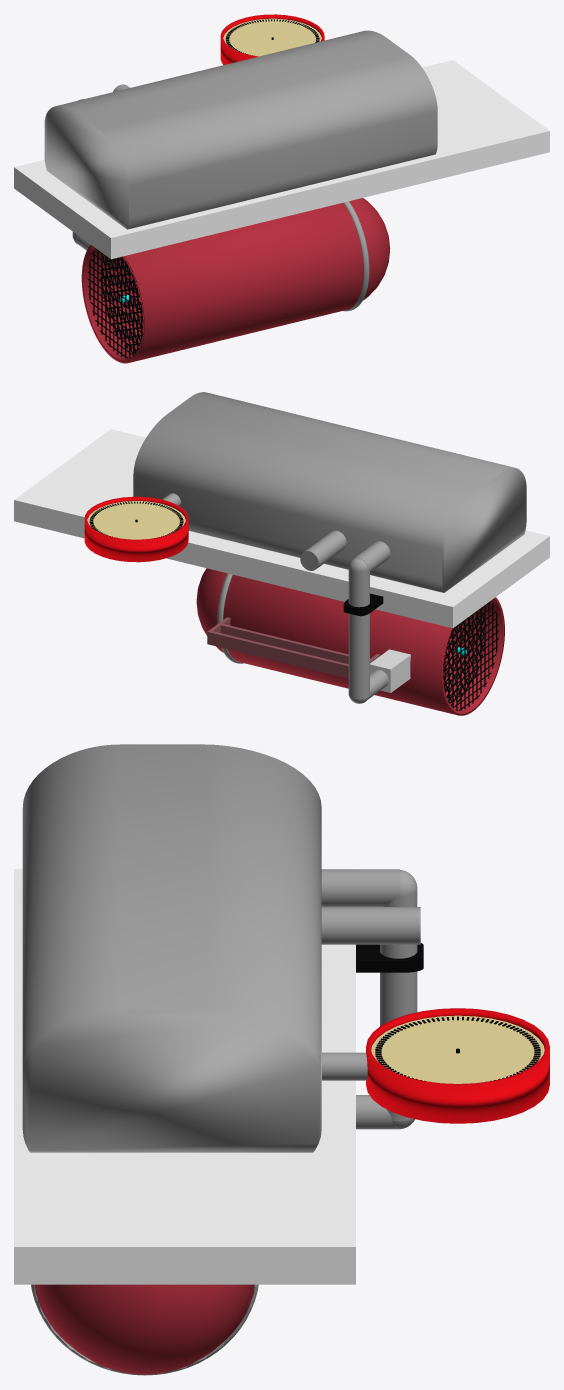
Rendered from Stand.gltf.
3 renders of one model, top to bottom at view 1: azimuth 30°, elevation 25°; view 2: azimuth 150°, elevation 25°; view 3: azimuth 270°, elevation 25°, orthographic. The views are drawn at different scales.
Parts seen in each view (by area): view 1: Сосуд, Cylinder, Фон стенда, Plane.001, фон монометра, Sphere, Plane.002, корпус монометра, Torus; view 2: Сосуд, Фон стенда, Cylinder, Cube, корпус монометра, фон монометра, Plane.001, трубка к монометру.003, Sphere, Plane.002, Cube.005, трубка к монометру.004 (+3 smaller); view 3: Сосуд, Фон стенда, Sphere, корпус монометра, фон монометра, трубка к монометру.004, трубка к монометру.001, трубка к монометру.003, Cube.001, трубка к монометру, Шкала монометра, Torus (+1 smaller).
Part boxes in pixels (left/top/right/bottom): Сосуд: left=44, top=30, right=437, bottom=229; Cylinder: left=81, top=203, right=363, bottom=363; Фон стенда: left=14, top=60, right=549, bottom=259; Plane.001: left=87, top=248, right=142, bottom=358; фон монометра: left=223, top=18, right=321, bottom=56; Sphere: left=349, top=198, right=390, bottom=300; Plane.002: left=100, top=256, right=143, bottom=353; корпус монометра: left=220, top=14, right=324, bottom=64; Torus: left=343, top=201, right=369, bottom=311; Сосуд: left=133, top=392, right=526, bottom=592; Фон стенда: left=14, top=429, right=549, bottom=628; Cylinder: left=223, top=574, right=504, bottom=715; Cube: left=207, top=617, right=380, bottom=678; корпус монометра: left=84, top=496, right=188, bottom=562; фон монометра: left=87, top=501, right=185, bottom=539; Plane.001: left=443, top=600, right=498, bottom=710; трубка к монометру.003: left=348, top=568, right=369, bottom=699; Sphere: left=196, top=568, right=226, bottom=652; Plane.002: left=443, top=607, right=486, bottom=705; Cube.005: left=370, top=649, right=410, bottom=692; трубка к монометру.004: left=300, top=530, right=346, bottom=570; Сосуд: left=22, top=744, right=321, bottom=1152; Фон стенда: left=14, top=869, right=355, bottom=1284; Sphere: left=37, top=1284, right=252, bottom=1374; корпус монометра: left=366, top=1008, right=549, bottom=1123; фон монометра: left=371, top=1015, right=544, bottom=1083; трубка к монометру.004: left=321, top=907, right=420, bottom=944; трубка к монометру.001: left=321, top=869, right=399, bottom=906; трубка к монометру.003: left=380, top=890, right=417, bottom=1120; Cube.001: left=356, top=943, right=423, bottom=972; трубка к монометру: left=322, top=1052, right=367, bottom=1080; Шкала монометра: left=375, top=1016, right=540, bottom=1081; Torus: left=31, top=1284, right=258, bottom=1375.
Size of the model in its own units: 2.99 by 1.56 by 1.79.
